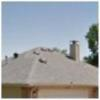chimneys: (70, 38, 80, 62)
